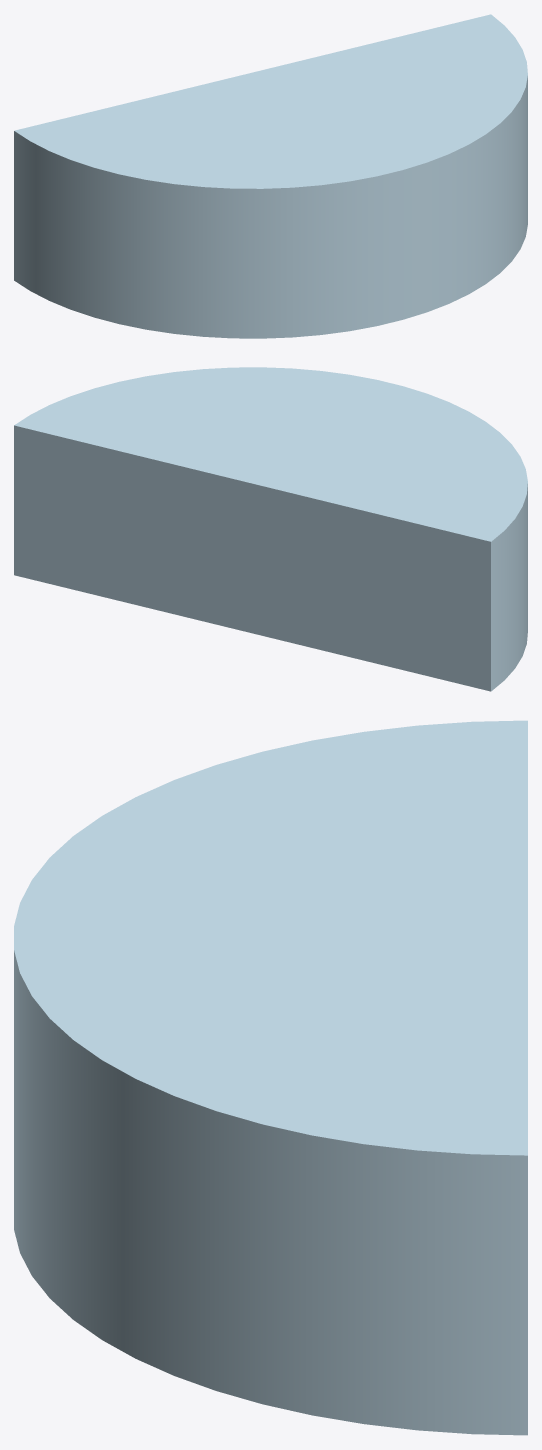
The model's file is enemyfov.gltf.
3 views of the same model, one above another, from view 1: azimuth 30°, elevation 25°; view 2: azimuth 150°, elevation 25°; view 3: azimuth 270°, elevation 25° (orthographic). The views are drawn at different scales.
Parts seen in each view (by area): view 1: Part 1; view 2: Part 1; view 3: Part 1.
Boxes of the visible parts, x1,y1,x2,y2 form: Part 1: (14,14,527,338); Part 1: (14,367,527,691); Part 1: (14,720,527,1435).
Bounding box in the file's own units: 0.127 × 0.0381 × 0.0634.
